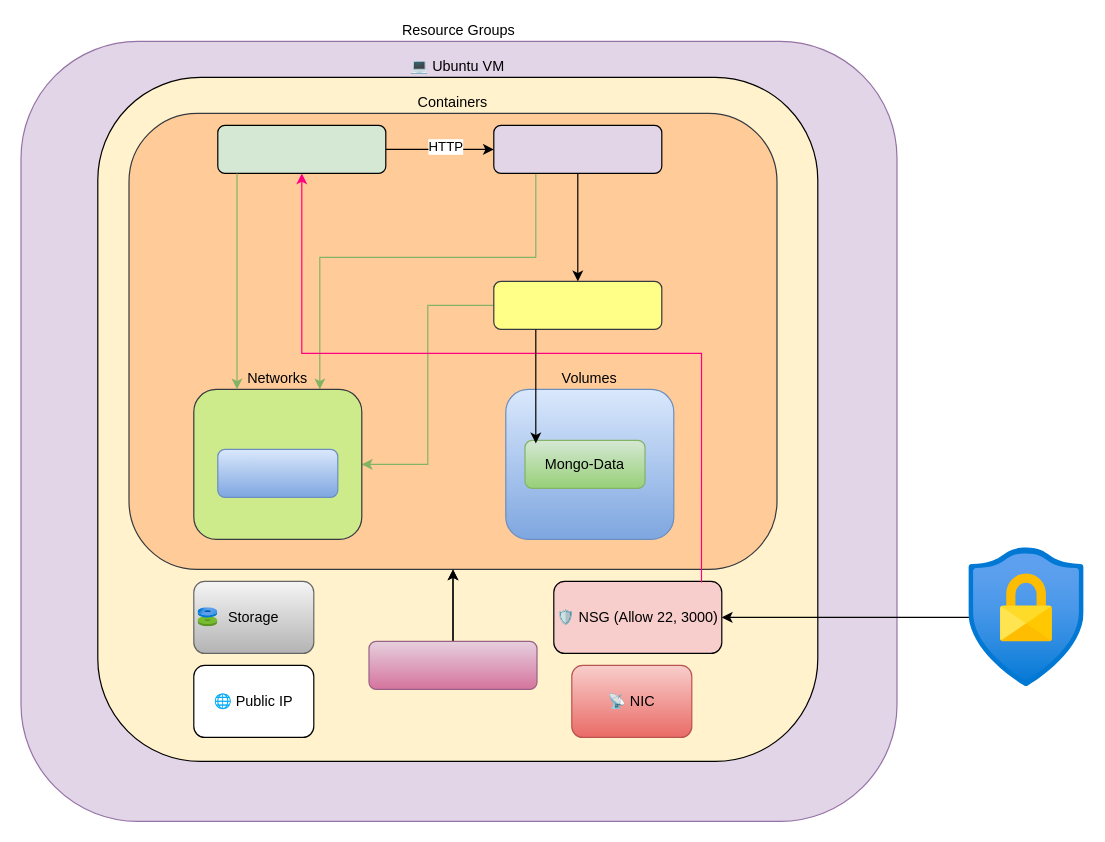
The diagram is 1105 pixels wide and 842 high, and some of its shapes have lost their labels. Here are the shapes that lost their labels. From the top down, the box of each, then its label:
(217, 124, 386, 173): 🟩 Frontend (3000)
(493, 124, 662, 173): 🟦 Backend (8000)
(493, 280, 662, 329): MongoDB
(217, 448, 338, 497): mynet
(368, 640, 537, 689): Docker Compose
